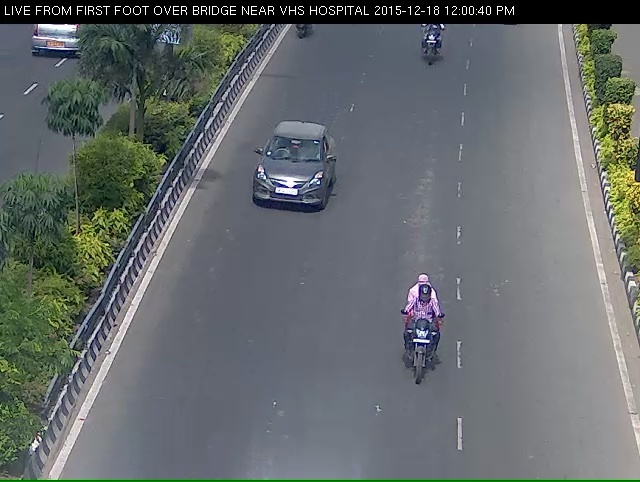Car: (250, 130, 327, 226)
Person: (397, 293, 445, 406), (411, 23, 454, 79)
